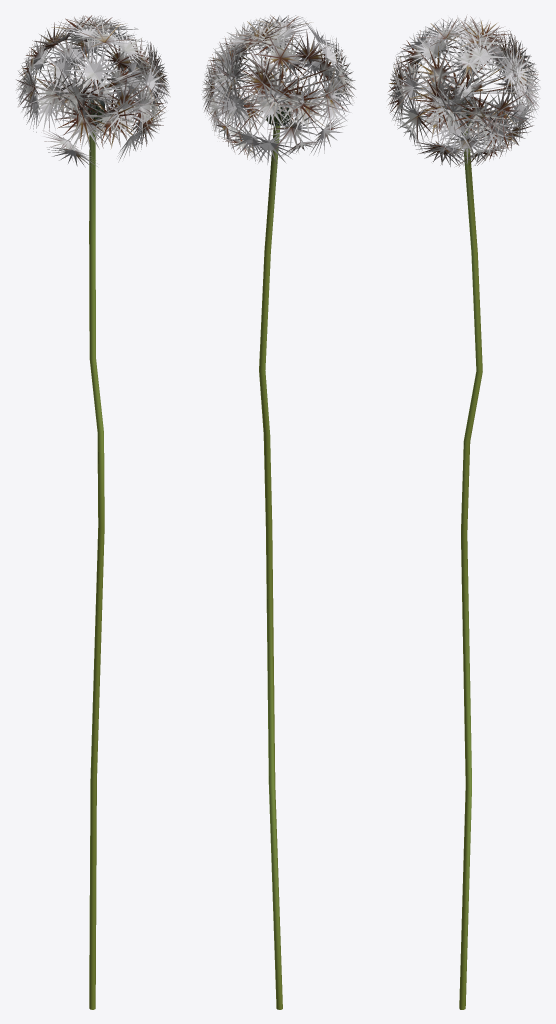
Rendered from flower_05glb.glb.
3 views of the same model, side by side, from view 1: azimuth 30°, elevation 25°; view 2: azimuth 150°, elevation 25°; view 3: azimuth 270°, elevation 25° (orthographic).
Visible parts, largest first — view 1: core, stem.029; view 2: core, stem.029; view 3: core, stem.029.
Part boxes in pixels (x1,y1,x2,y2): core: [16, 15, 170, 167]; stem.029: [89, 101, 104, 1009]; core: [201, 15, 355, 164]; stem.029: [259, 120, 282, 1009]; core: [387, 15, 540, 166]; stem.029: [459, 102, 482, 1009].
Bounding box in the file's own units: 0.0371 × 0.258 × 0.037.
